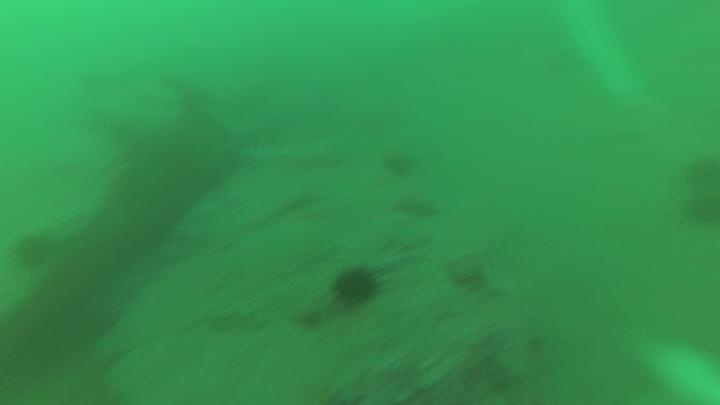echinus: (329, 263, 383, 310), (12, 230, 57, 271), (680, 191, 719, 229), (682, 152, 720, 190), (379, 148, 418, 181)
